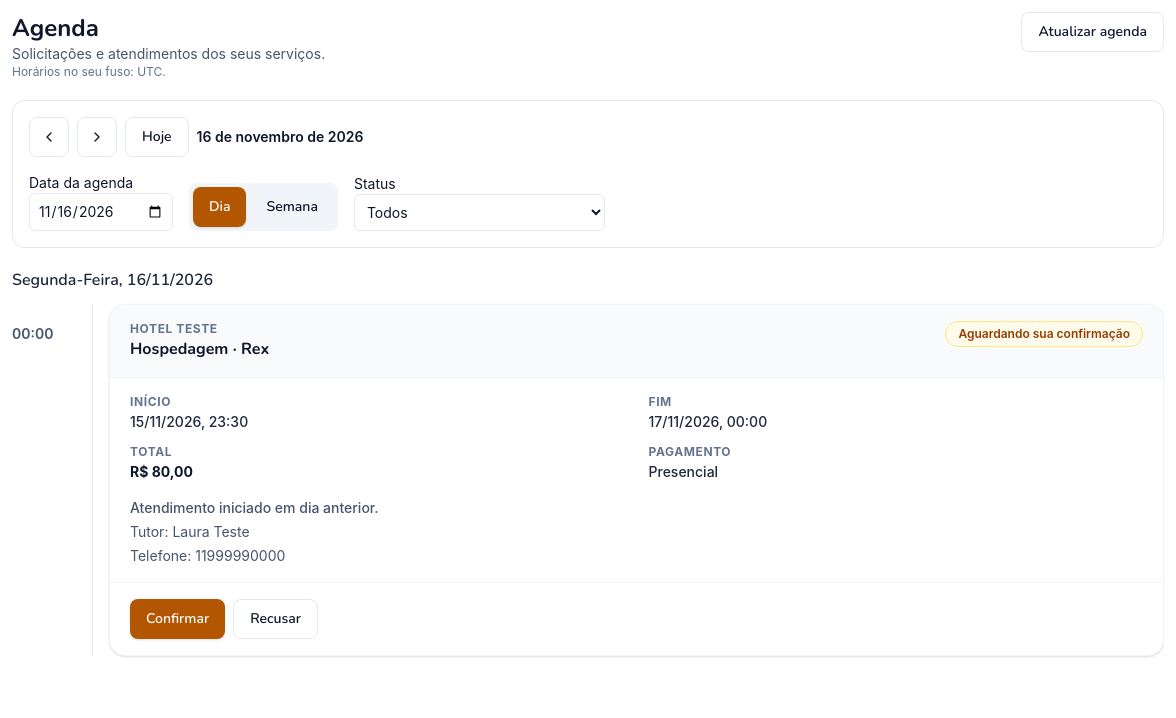
navega por dia/semana, inclui hospedagem em curso e filtra status
Expected: the text "Atendimento iniciado em dia anterior." is shown, left=130, top=499, right=379, bottom=516
Step 1. Click the button named "Próximo dia" → (97, 137), box left=77, top=117, right=117, bottom=157
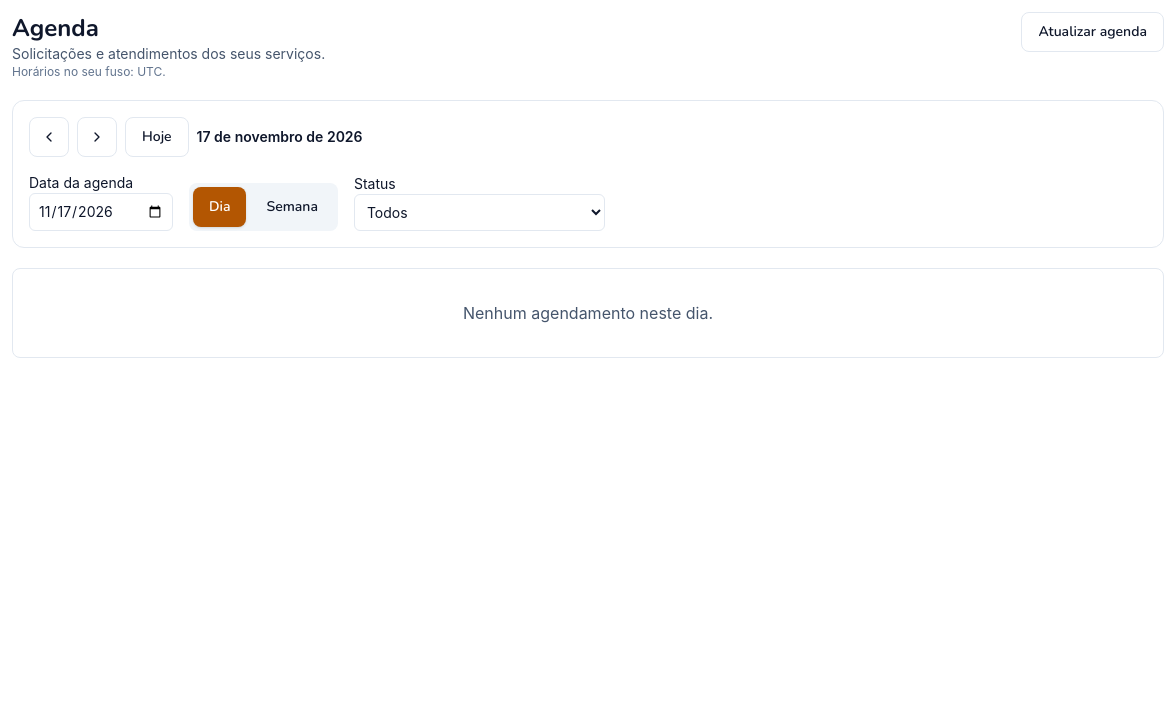
Now the text "Nenhum agendamento neste dia." is shown, box left=12, top=268, right=1164, bottom=358
Step 2. Click the button "Semana" → (292, 207), box left=250, top=187, right=334, bottom=227
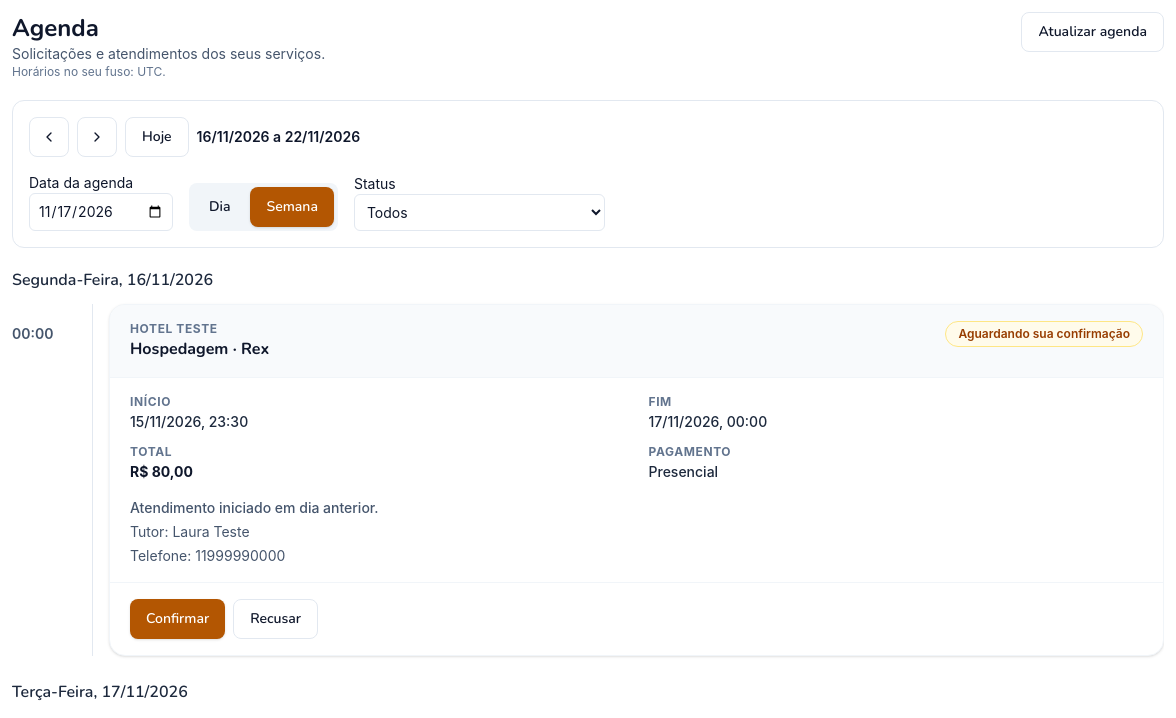
Now the text "Hotel Teste" is shown, box left=130, top=321, right=218, bottom=336
Step 3. Click the button named "Próxima semana" → (97, 137), box left=77, top=117, right=117, bottom=157
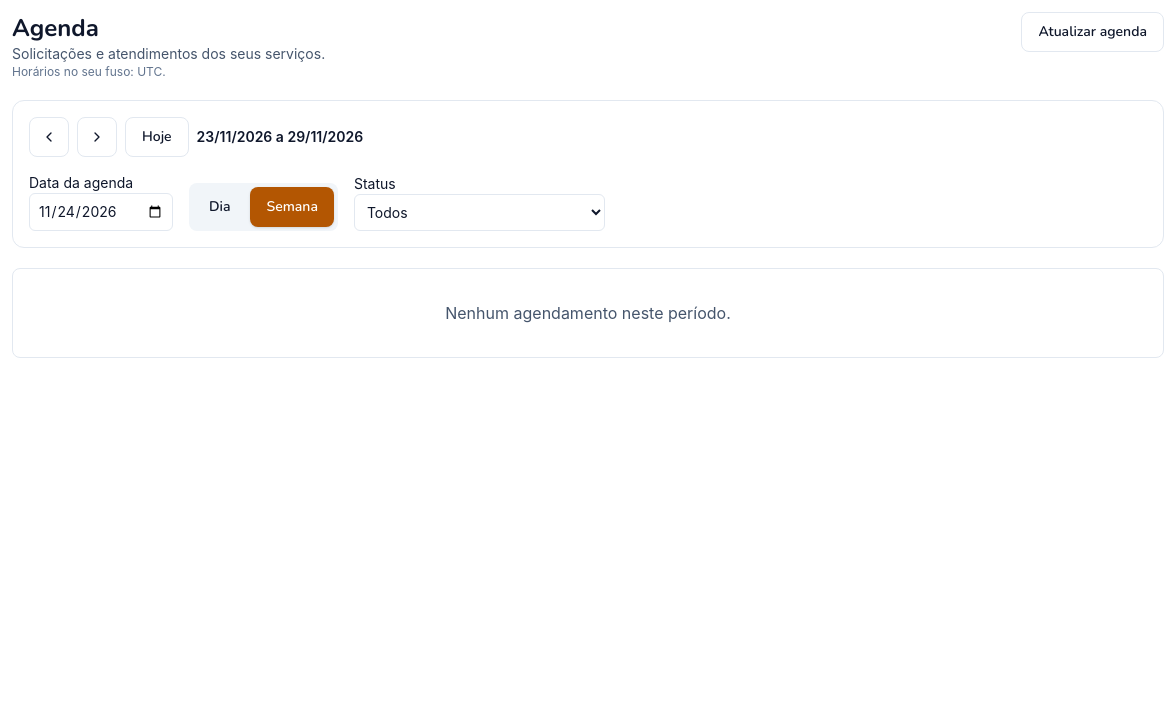
Now the text "Nenhum agendamento neste período." is shown, box left=12, top=268, right=1164, bottom=358
